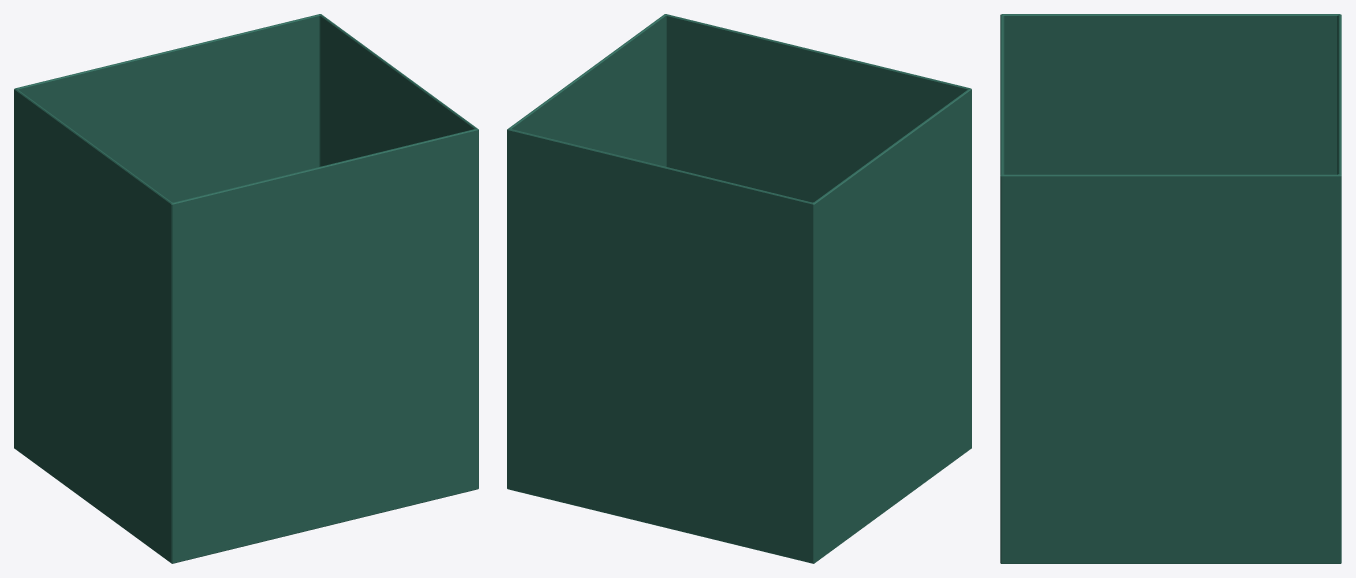
File: DecorativeBox4.glb
The picture shows the model from 3 angles, left to right: view 1: azimuth 30°, elevation 25°; view 2: azimuth 150°, elevation 25°; view 3: azimuth 270°, elevation 25°; orthographic projection. The views are drawn at different scales.
Size of the model in its own units: 0.2325 by 0.2603 by 0.2072.
